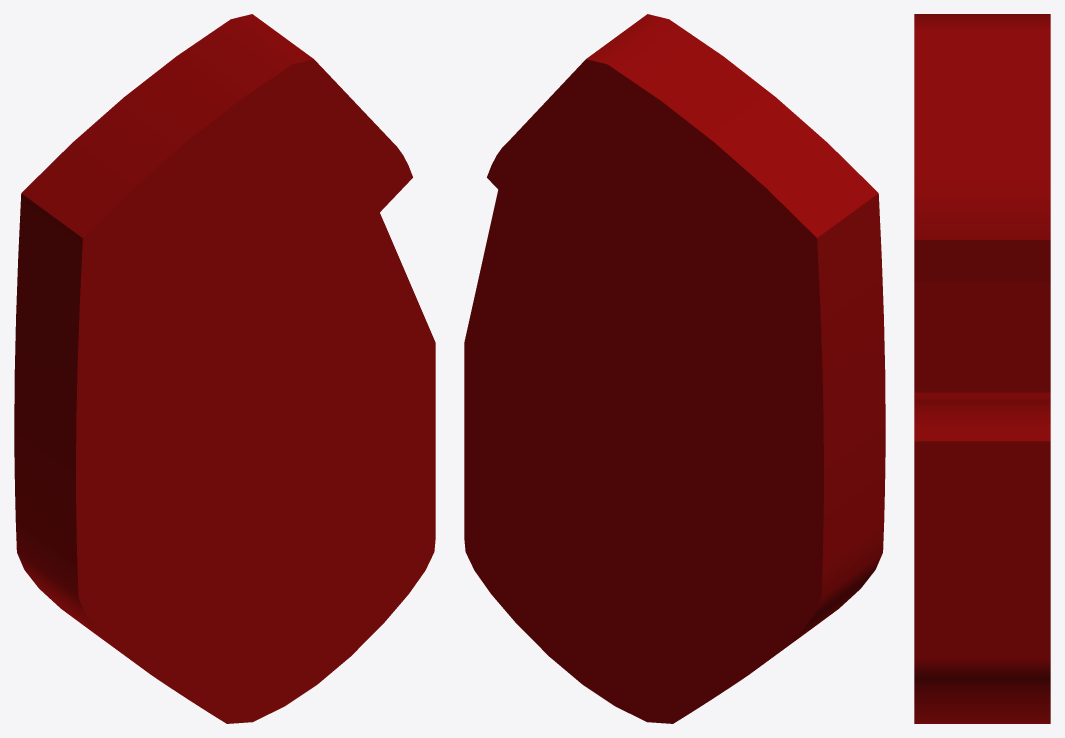
The picture shows the model from 3 angles, left to right: view 1: azimuth 30°, elevation 25°; view 2: azimuth 150°, elevation 25°; view 3: azimuth 270°, elevation 25°; orthographic projection. The views are drawn at different scales.
Parts seen in each view (by area): view 1: polySurface128; view 2: polySurface128; view 3: polySurface128.
Part boxes in pixels (x1=…): polySurface128: x1=14, y1=14, x2=435, y2=723; polySurface128: x1=464, y1=14, x2=885, y2=723; polySurface128: x1=914, y1=14, x2=1050, y2=723.
Bounding box in the file's own units: 2.38 × 4.1 × 0.7068.
